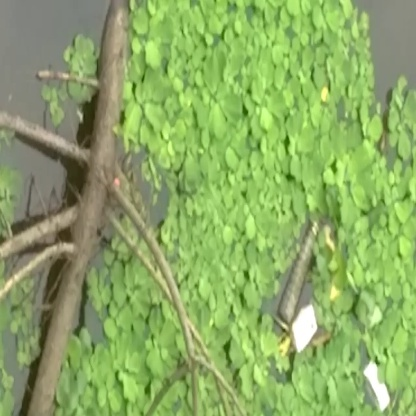branch: (16, 4, 131, 411)
